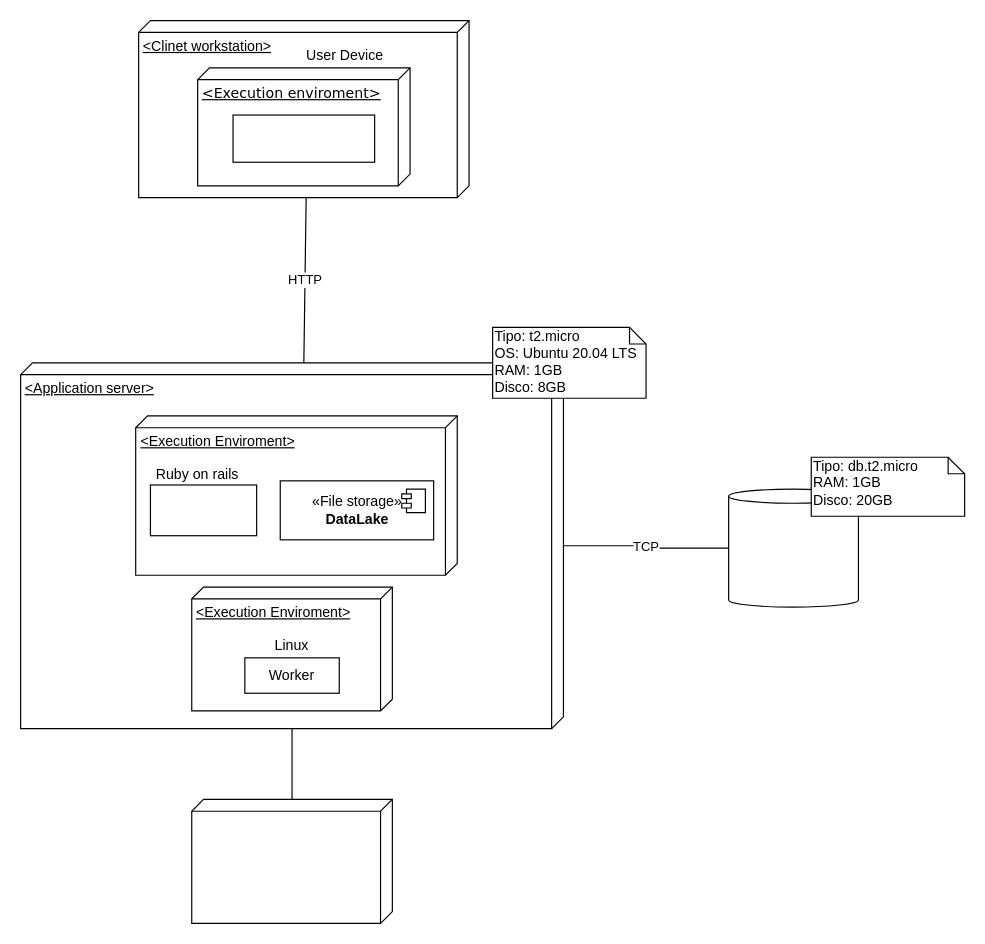
Some shapes in this 985 by 944 pixel diagram are drawn without their labels. The shapes that lost their labels are listed below. From the top down, each one's centre as x and y in pixels, then its label:
(x=303, y=138): UI
(x=203, y=510): Rails App
(x=792, y=547): <RDS> MySQL
(x=291, y=860): <AWS SES>
